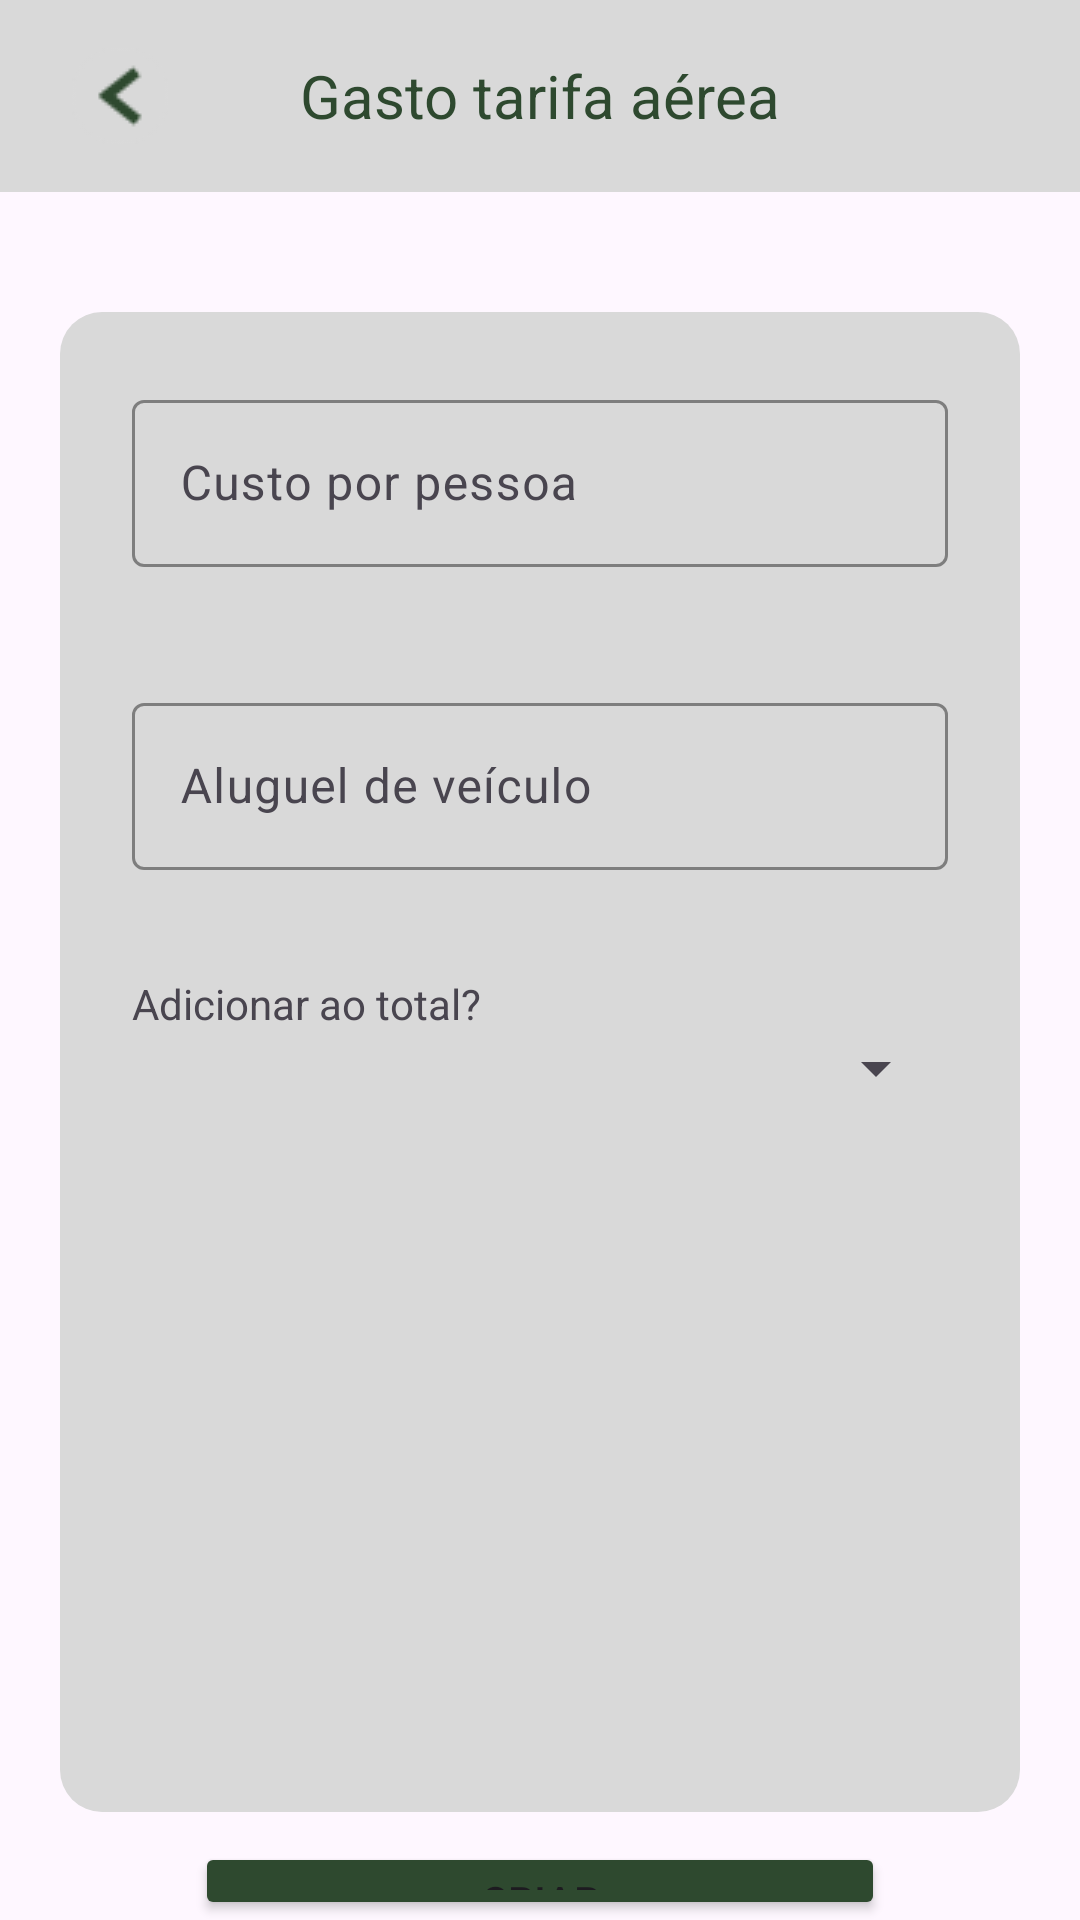

Where to tap for icons on this 1080w x 1920h app screen, as point (x, y):
Voltar: point (120, 96)
